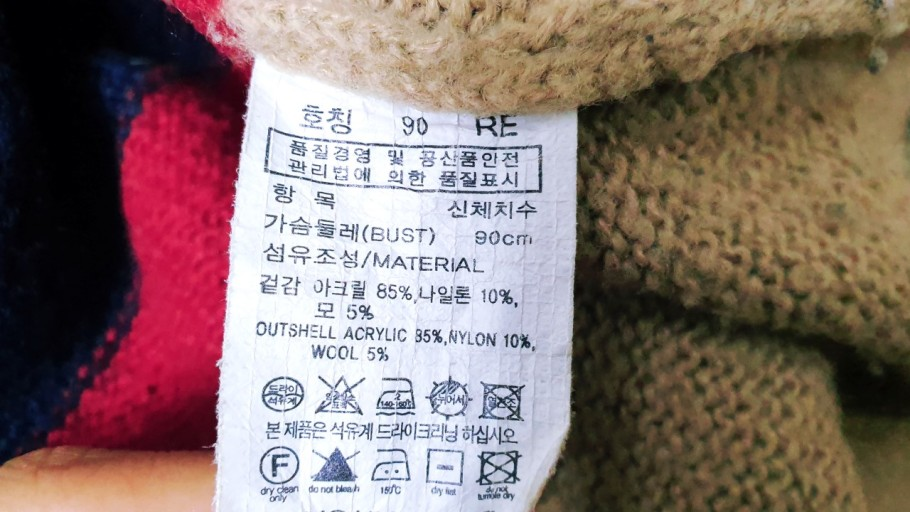ER_dry_clean_hydrocarbon: (256, 445, 301, 486)
ER_flat_dry: (423, 445, 467, 487)
ER_iron_medium_temp: (368, 444, 411, 484)
ER_no_bleach: (310, 445, 360, 483)
ER_no_tumble_dry: (475, 448, 521, 485)
KR_dry_clean_petroleum: (257, 371, 306, 414)
KR_flat_dry_in_shade: (425, 377, 472, 422)
KR_iron_medium_temp_with_cloth: (373, 371, 417, 420)
KR_no_bleach: (314, 373, 366, 417)
KR_no_tumble_dry: (480, 379, 525, 423)
